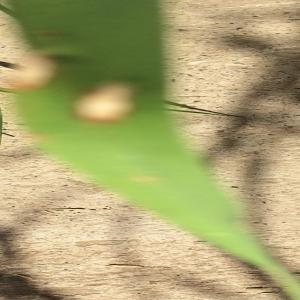Rice_Blast: (61, 71, 162, 126)
